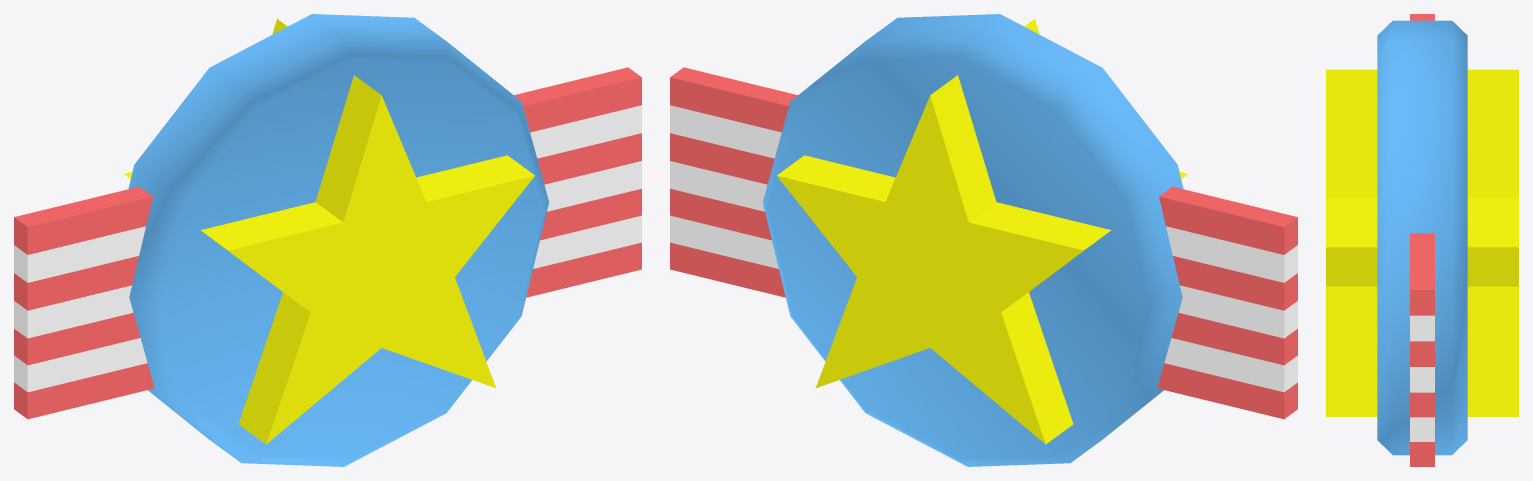
The model's file is ps2_save-icons_heroesofthepacific.glb.
3 views of the same model, side by side, from view 1: azimuth 30°, elevation 25°; view 2: azimuth 150°, elevation 25°; view 3: azimuth 270°, elevation 25° (orthographic). The views are drawn at different scales.
Visible parts, largest first — view 1: hotp.ico; view 2: hotp.ico; view 3: hotp.ico.
Boxes of the visible parts, box(x1,y1,x2,y2) form: hotp.ico: box(14, 14, 641, 466); hotp.ico: box(670, 14, 1297, 466); hotp.ico: box(1326, 14, 1518, 466).
Size of the model in its own units: 2.94 by 1.97 by 0.8691.
Materials: 1 (1 with a texture image).
